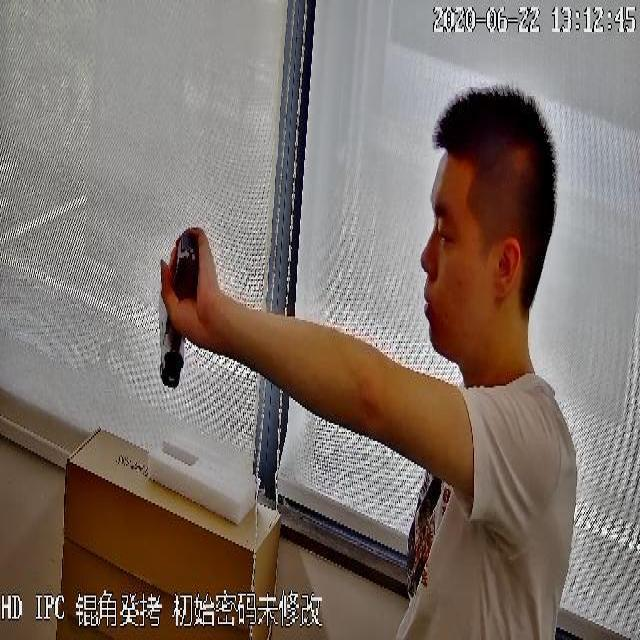pistol: (159, 234, 205, 390)
